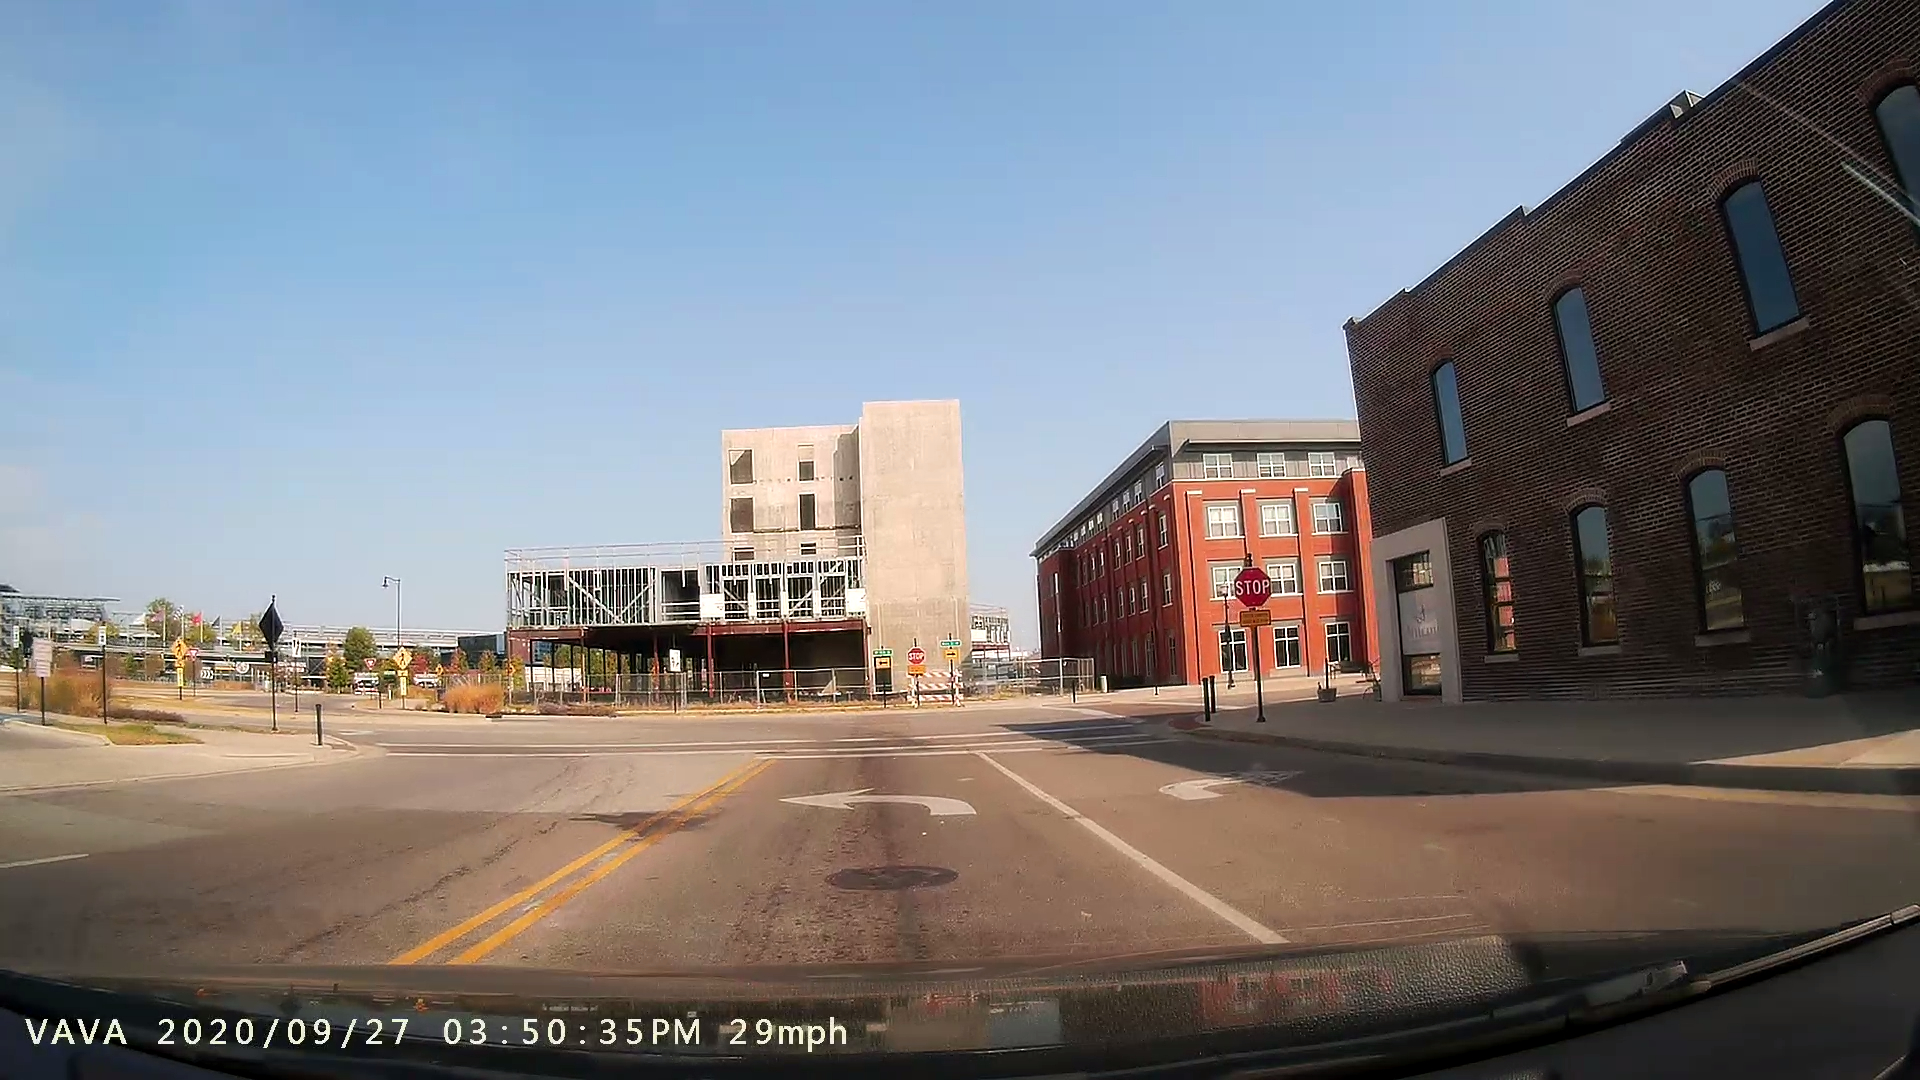left_turn: (775, 767, 994, 845)
right_turn: (1158, 752, 1313, 811)
